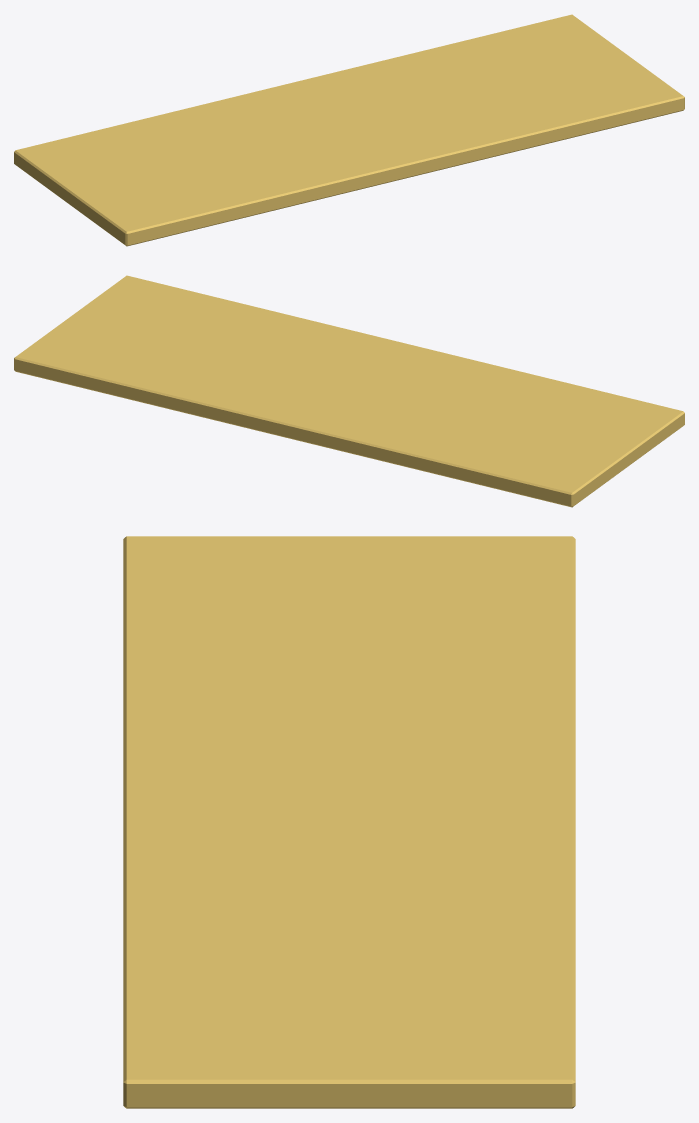
Rendered from SM_Deck_8x0p2x2p8.glb.
The picture shows the model from 3 angles, top to bottom: view 1: azimuth 30°, elevation 25°; view 2: azimuth 150°, elevation 25°; view 3: azimuth 270°, elevation 25°; orthographic projection. The views are drawn at different scales.
Visible parts, largest first — view 1: SM_Deck_8x0p2x2p8; view 2: SM_Deck_8x0p2x2p8; view 3: SM_Deck_8x0p2x2p8.
Part boxes in pixels (box(x1,y1,x2,y2)): SM_Deck_8x0p2x2p8: box(14, 14, 684, 246); SM_Deck_8x0p2x2p8: box(14, 275, 684, 507); SM_Deck_8x0p2x2p8: box(123, 536, 575, 1108).
Bounding box in the file's own units: 8 × 0.2682 × 2.8.
